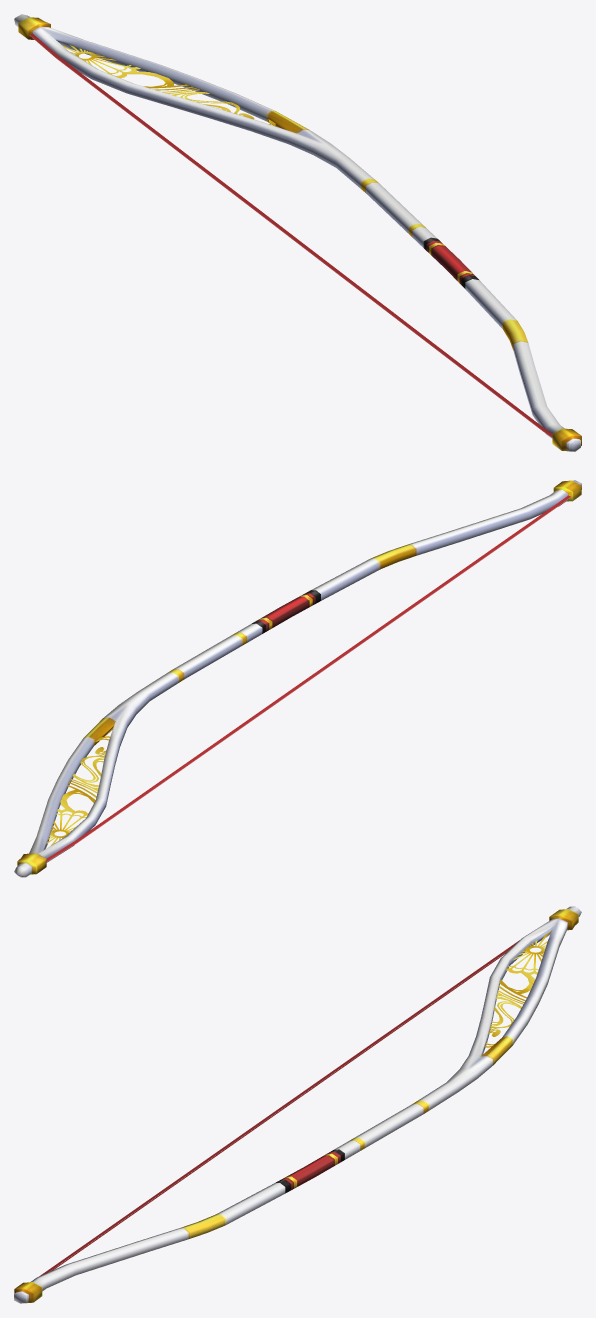
The model's file is shizuka_platinum_weapon_weapon.glb.
The picture shows the model from 3 angles, top to bottom: view 1: azimuth 30°, elevation 25°; view 2: azimuth 150°, elevation 25°; view 3: azimuth 330°, elevation 25°; orthographic projection. The views are drawn at different scales.
Size of the model in its own units: 0.2316 by 0.0269 by 1.74.
1 material, 1 textured.
